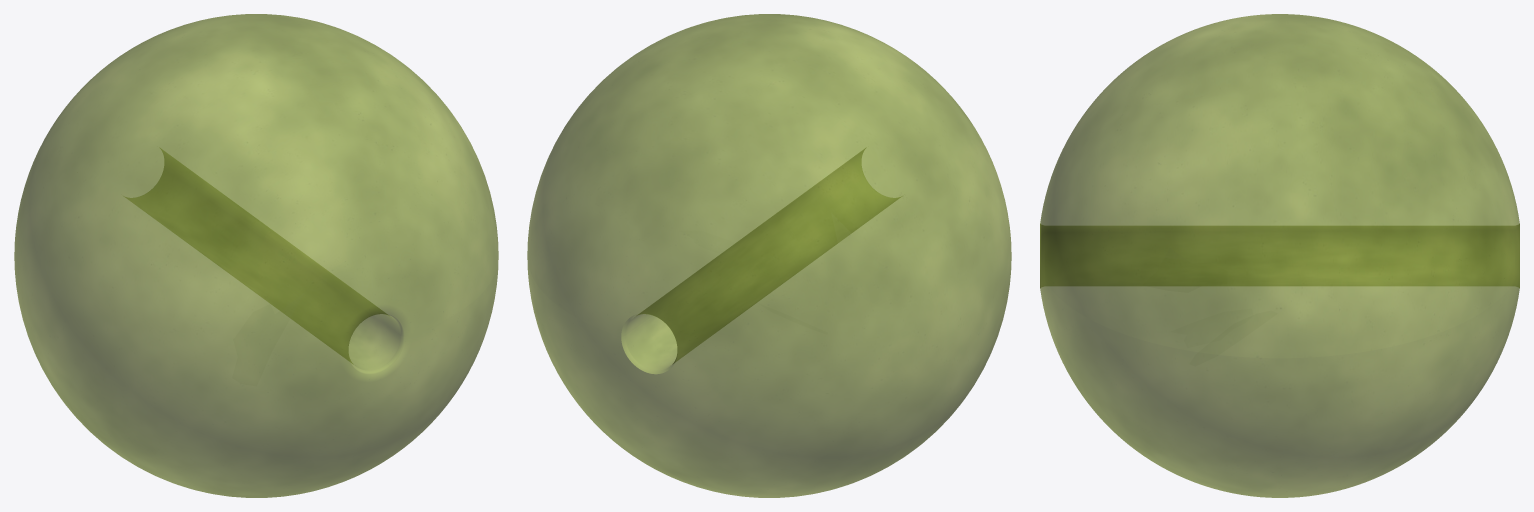
File: peridot-aa.glb
3 renders of one model, left to right at view 1: azimuth 30°, elevation 25°; view 2: azimuth 150°, elevation 25°; view 3: azimuth 270°, elevation 25°, orthographic.
Visible parts, largest first — view 1: peridot-aa.001; view 2: peridot-aa.001; view 3: peridot-aa.001.
Boxes of the visible parts, <box> form: peridot-aa.001: <box>14,14,498,497</box>; peridot-aa.001: <box>527,14,1011,497</box>; peridot-aa.001: <box>1040,14,1519,497</box>.
Bounding box in the file's own units: 0.008 × 0.008 × 0.00793.
2 materials, 1 textured.
